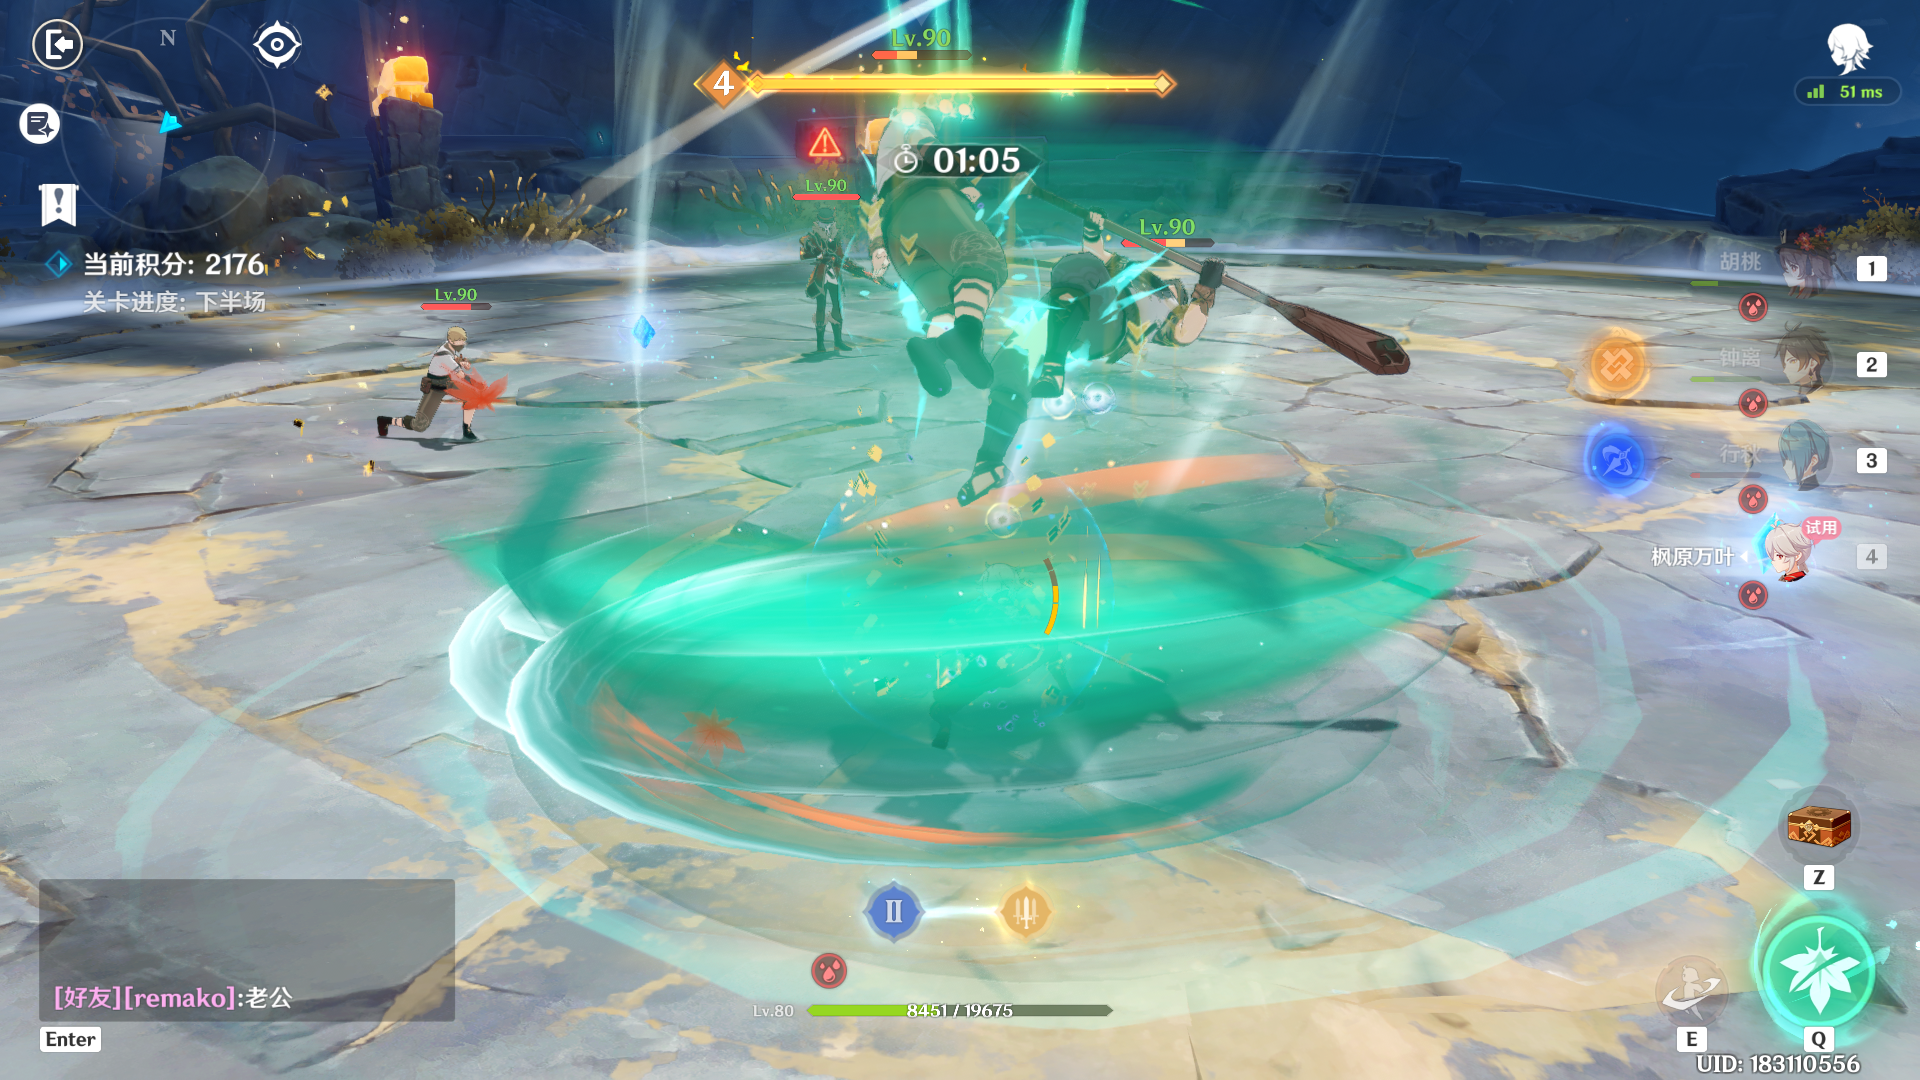robber: (952, 223, 1241, 510), (811, 76, 1023, 396), (359, 309, 520, 460), (775, 202, 909, 371)
